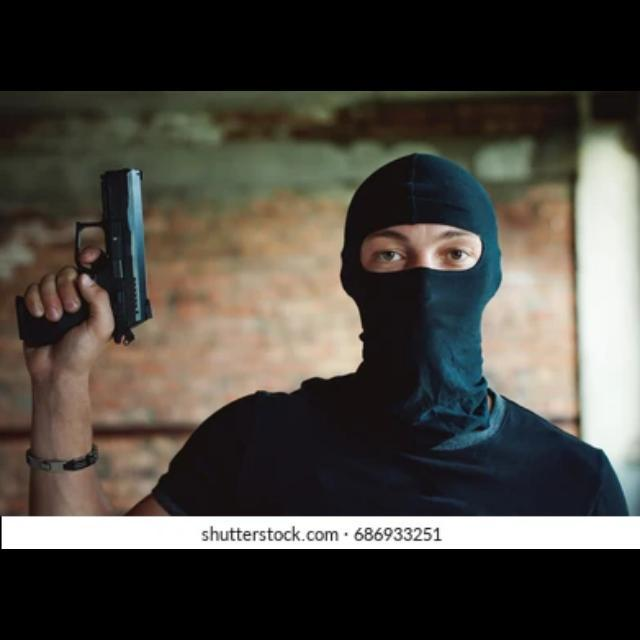criminal: (12, 152, 627, 516)
weapon: (12, 166, 155, 346)
